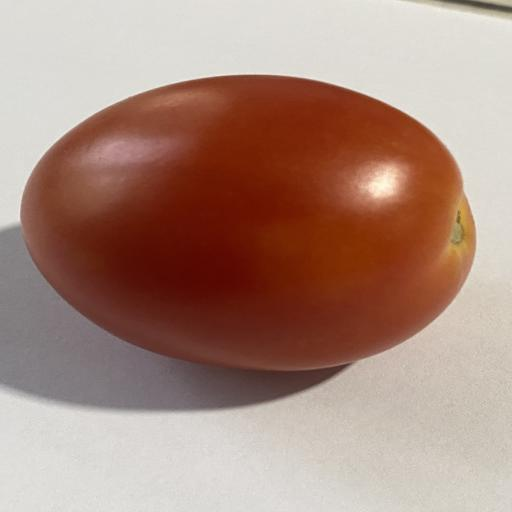ripe: (21, 75, 476, 371)
